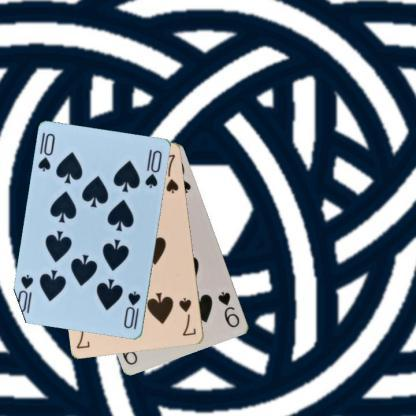10s: (121, 289, 142, 331), (36, 130, 56, 173)
7s: (176, 296, 198, 338)
9s: (216, 288, 242, 330)
